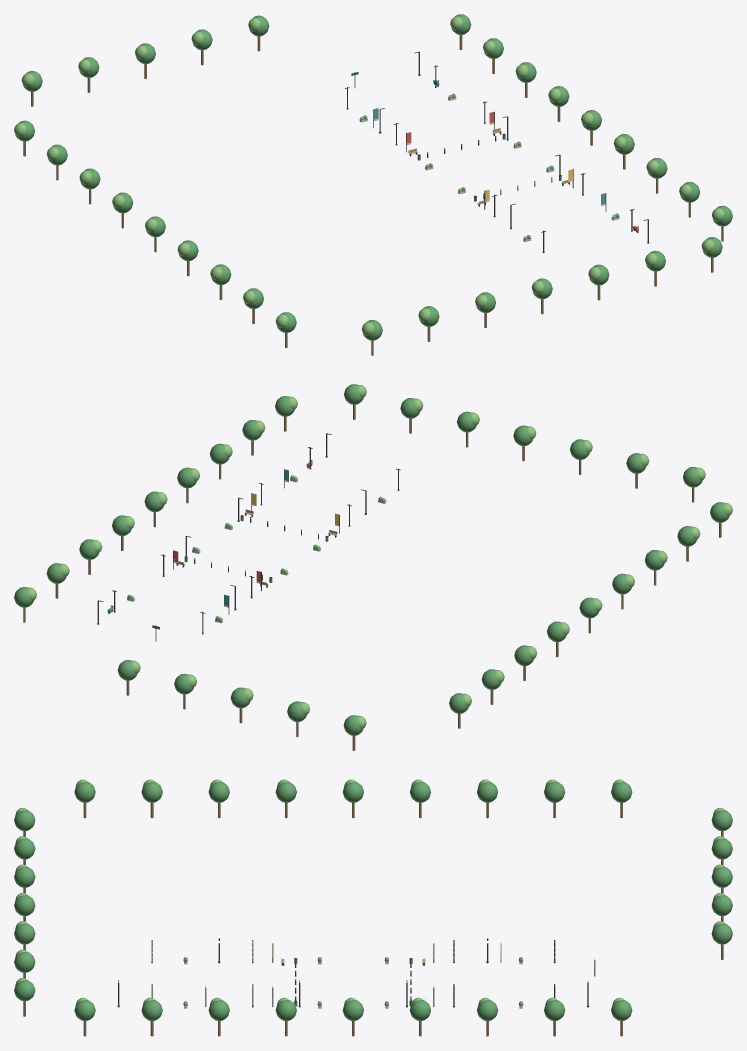
File: StreetProps.fbx
3 views of the same model, one above another, from view 1: azimuth 30°, elevation 25°; view 2: azimuth 150°, elevation 25°; view 3: azimuth 270°, elevation 25° (orthographic). The views are drawn at different scales.
Parts seen in each view (by area): view 1: StreetProps; view 2: StreetProps; view 3: StreetProps.
Boxes of the visible parts, x1=… form: StreetProps: x1=14, y1=14, x2=732, y2=355; StreetProps: x1=14, y1=384, x2=732, y2=750; StreetProps: x1=14, y1=779, x2=732, y2=1036.
Bounding box in the file's own units: 80.5 × 5.81 × 107.
